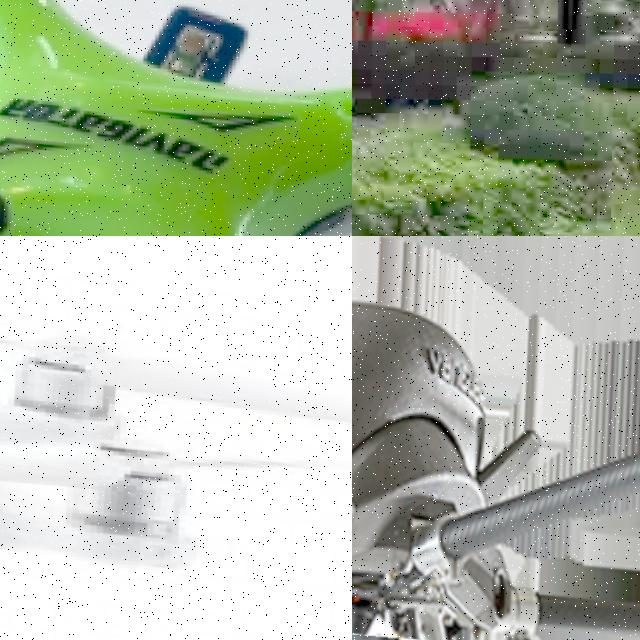drone: (0, 267, 352, 640), (352, 236, 640, 640), (0, 0, 352, 236)
